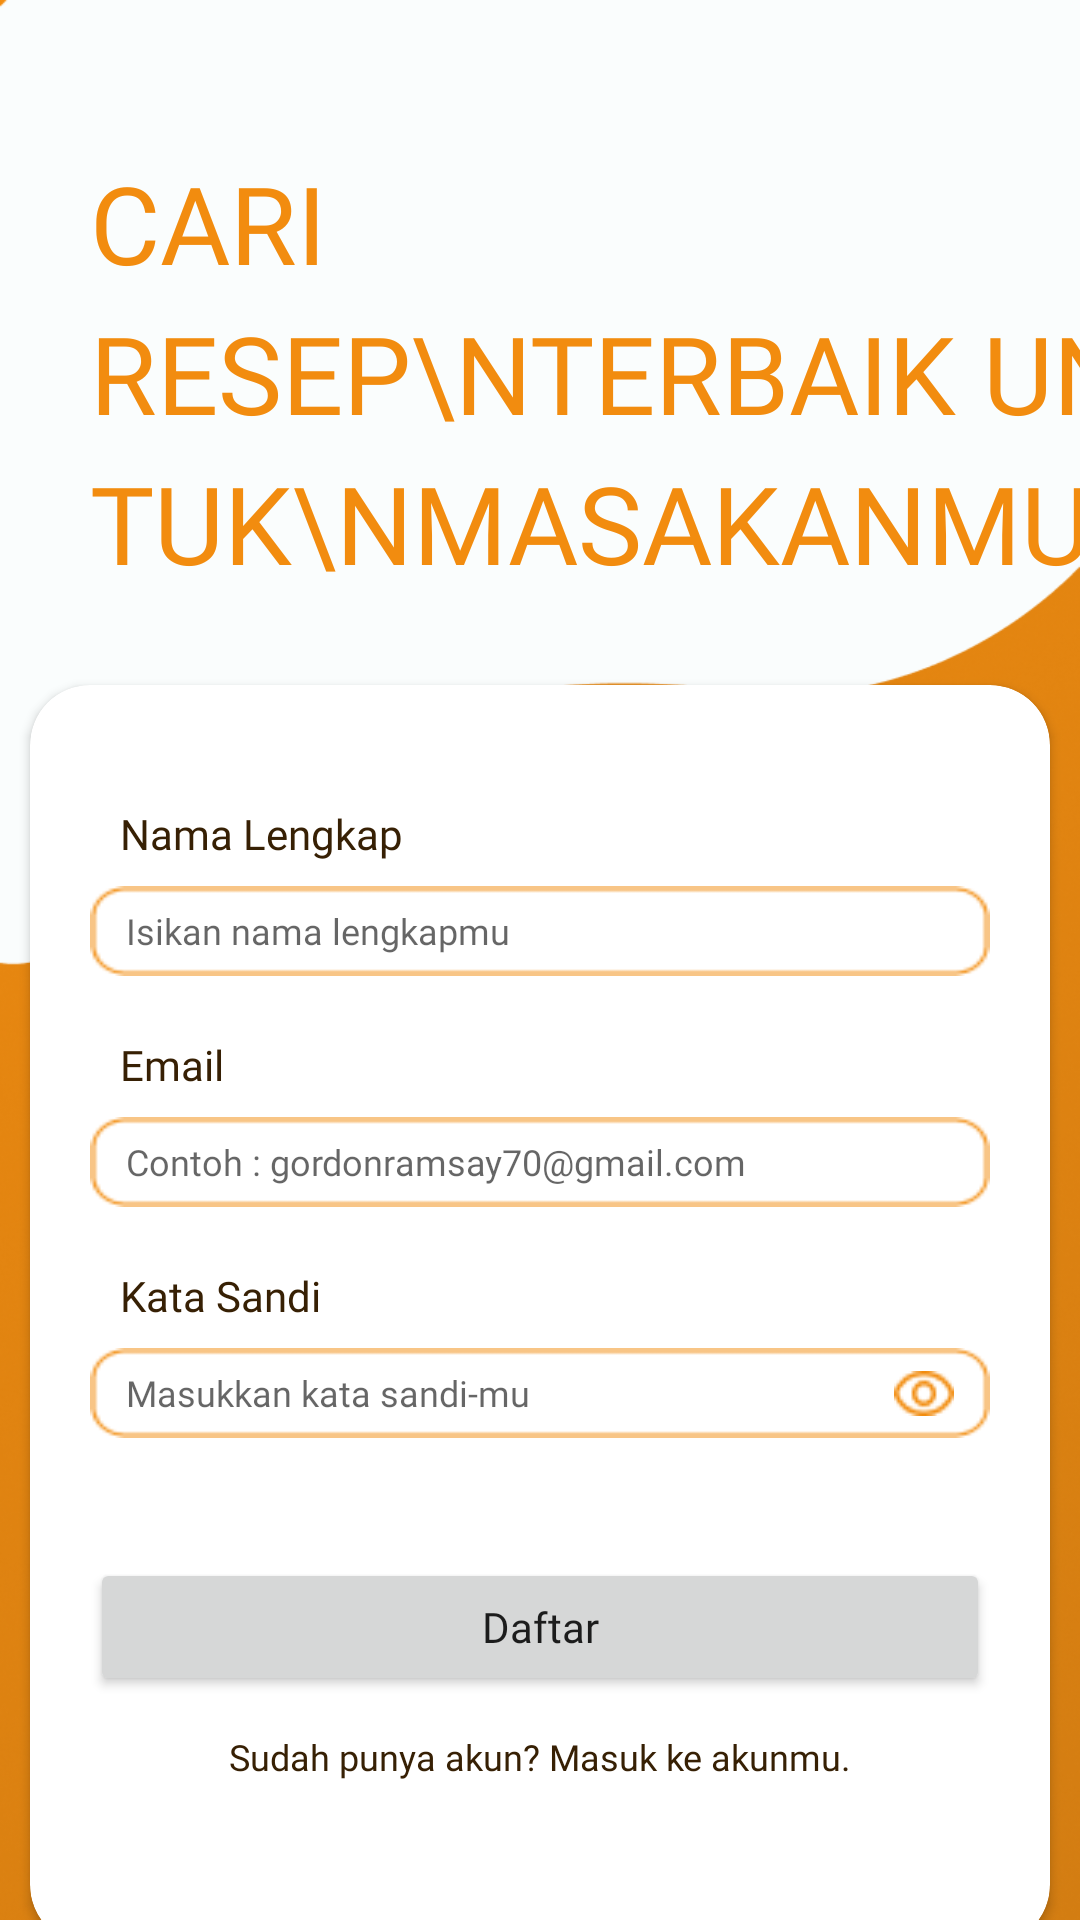

Locate icon controls on the screen. Image size 1080*1920, boxes as (x1, y1, x2, y2).
seen: (894, 1371, 954, 1416)
